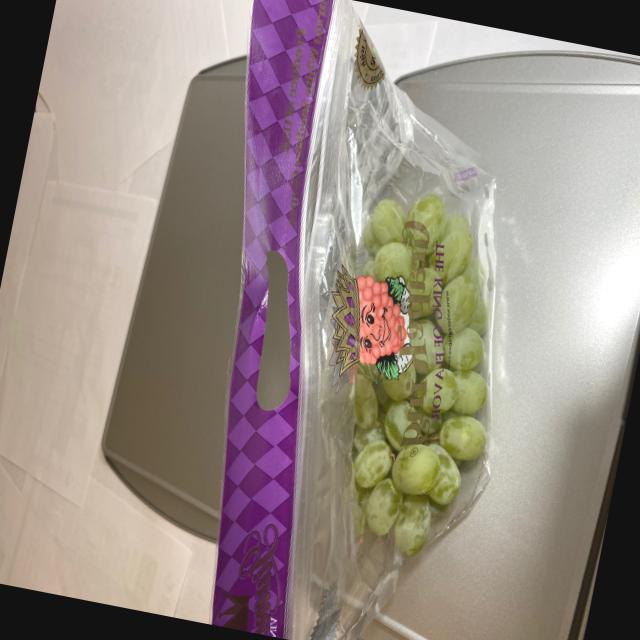grapes: (267, 132, 544, 574)
